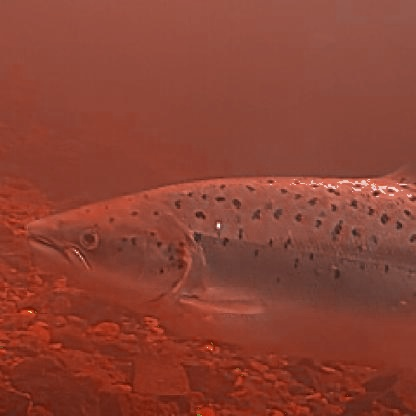salmon: (14, 149, 414, 399)
